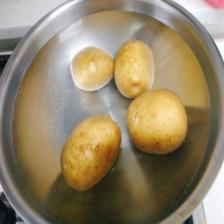Potato: (60, 111, 124, 192), (127, 88, 188, 155), (114, 37, 155, 101), (68, 43, 119, 92)
